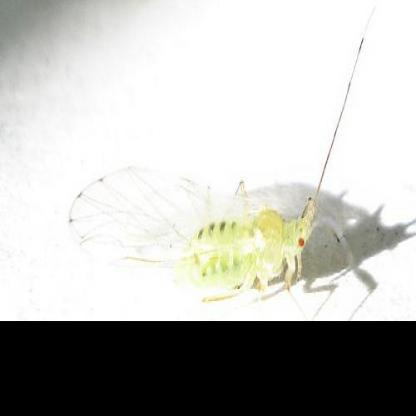aphid: (65, 72, 370, 316)
